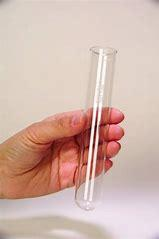Test tube: (80, 40, 106, 223)
